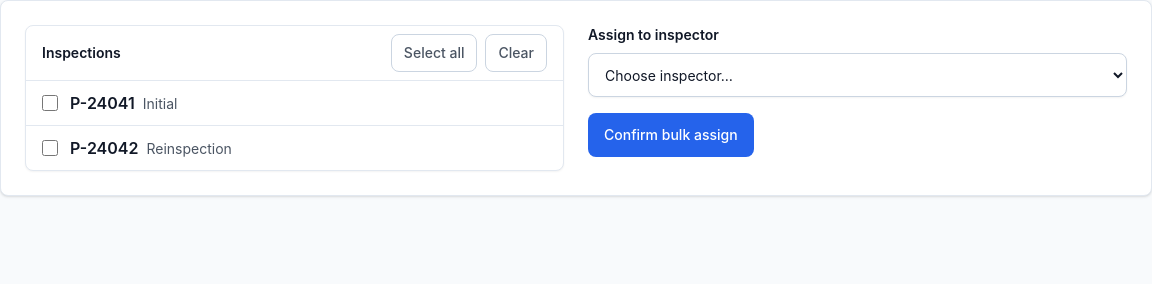
Test: BulkAssignment › shows error when confirming without inspector
Click the checkbox with test id "inspection-selector-check-ins-401" at coordinates (50, 103), box [42, 95, 58, 111]
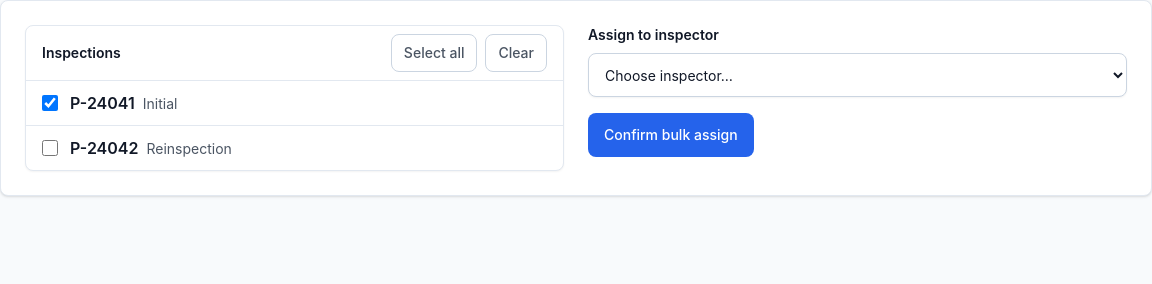
Click the button with test id "bulk-assignment-confirm" at coordinates (671, 135), box [588, 113, 754, 157]
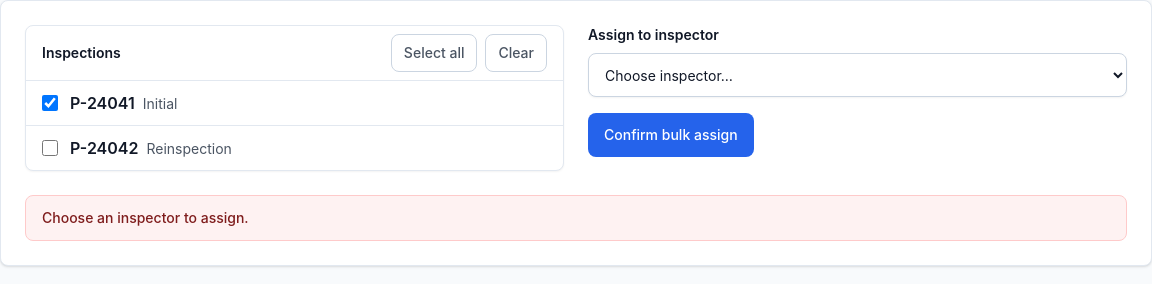
Now the message with test id "bulk-assignment-feedback" shows "Choose an inspector", box [42, 209, 249, 226]
